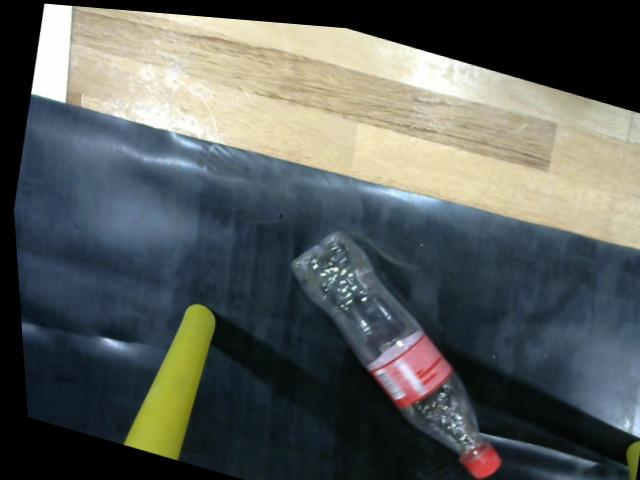bottle: (272, 209, 508, 480)
